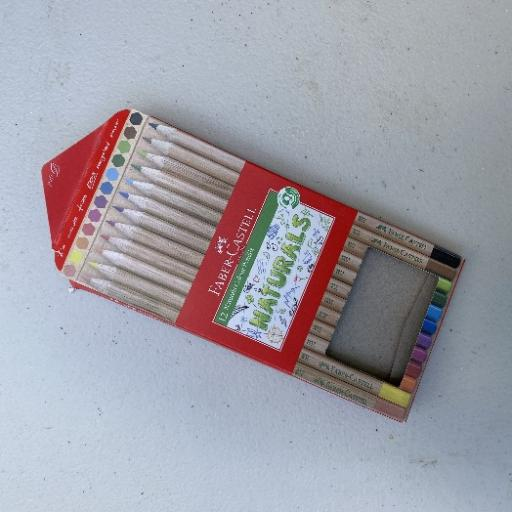Cardboard: (39, 107, 467, 425)
